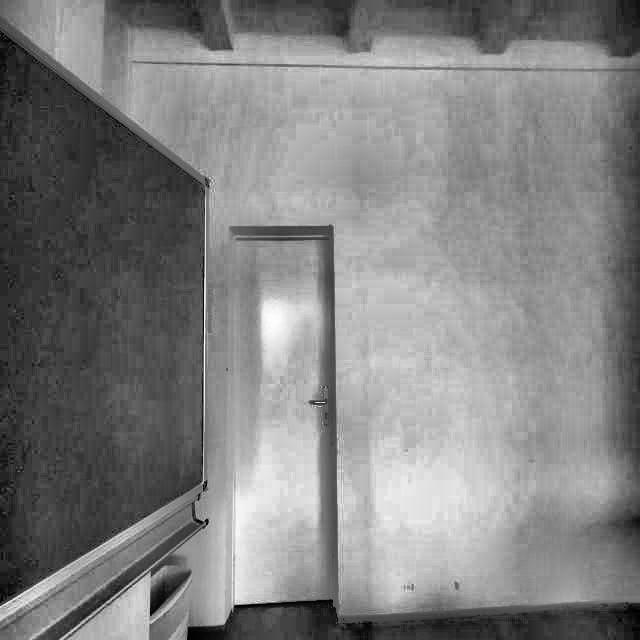ff: (152, 19, 336, 122)
